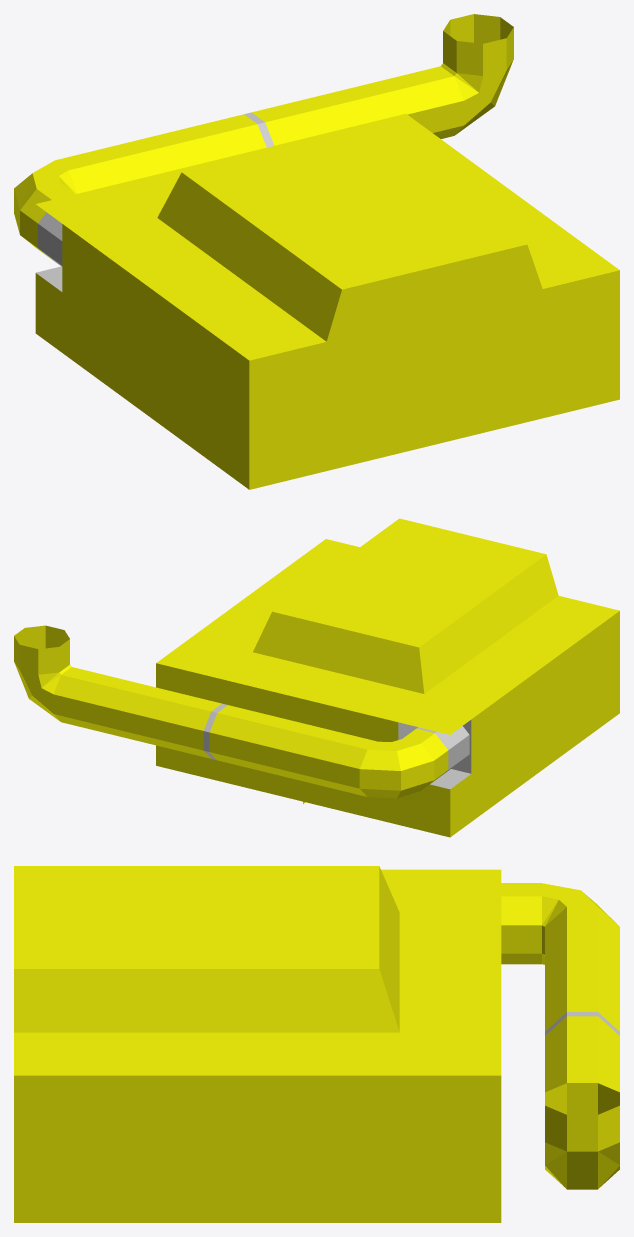
Rendered from wdw_segment7.0x1633C.collision.obj.
3 renders of one model, top to bottom at view 1: azimuth 30°, elevation 25°; view 2: azimuth 150°, elevation 25°; view 3: azimuth 270°, elevation 25°, orthographic. The views are drawn at different scales.
Visible parts, largest first — view 1: wdw_segment7_1633C_normal, wdw_segment7_1633C_vanishing_wall; view 2: wdw_segment7_1633C_normal, wdw_segment7_1633C_vanishing_wall; view 3: wdw_segment7_1633C_normal.
Boxes of the visible parts, x1,y1,x2,y2 form: wdw_segment7_1633C_normal: (14,14,619,489); wdw_segment7_1633C_vanishing_wall: (36,212,62,291); wdw_segment7_1633C_normal: (14,518,619,837); wdw_segment7_1633C_vanishing_wall: (398,720,471,789); wdw_segment7_1633C_normal: (14,866,619,1222).
Size of the model in its own units: 8.21 by 2.8 by 7.46.
